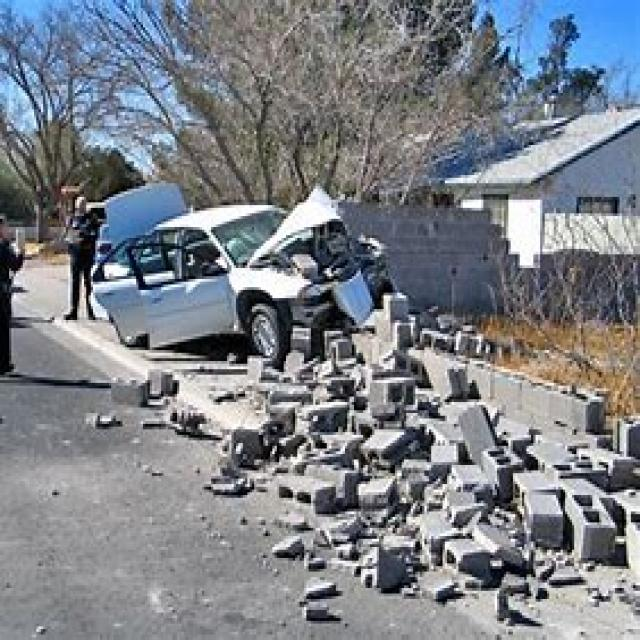Accident: (58, 86, 640, 640)
